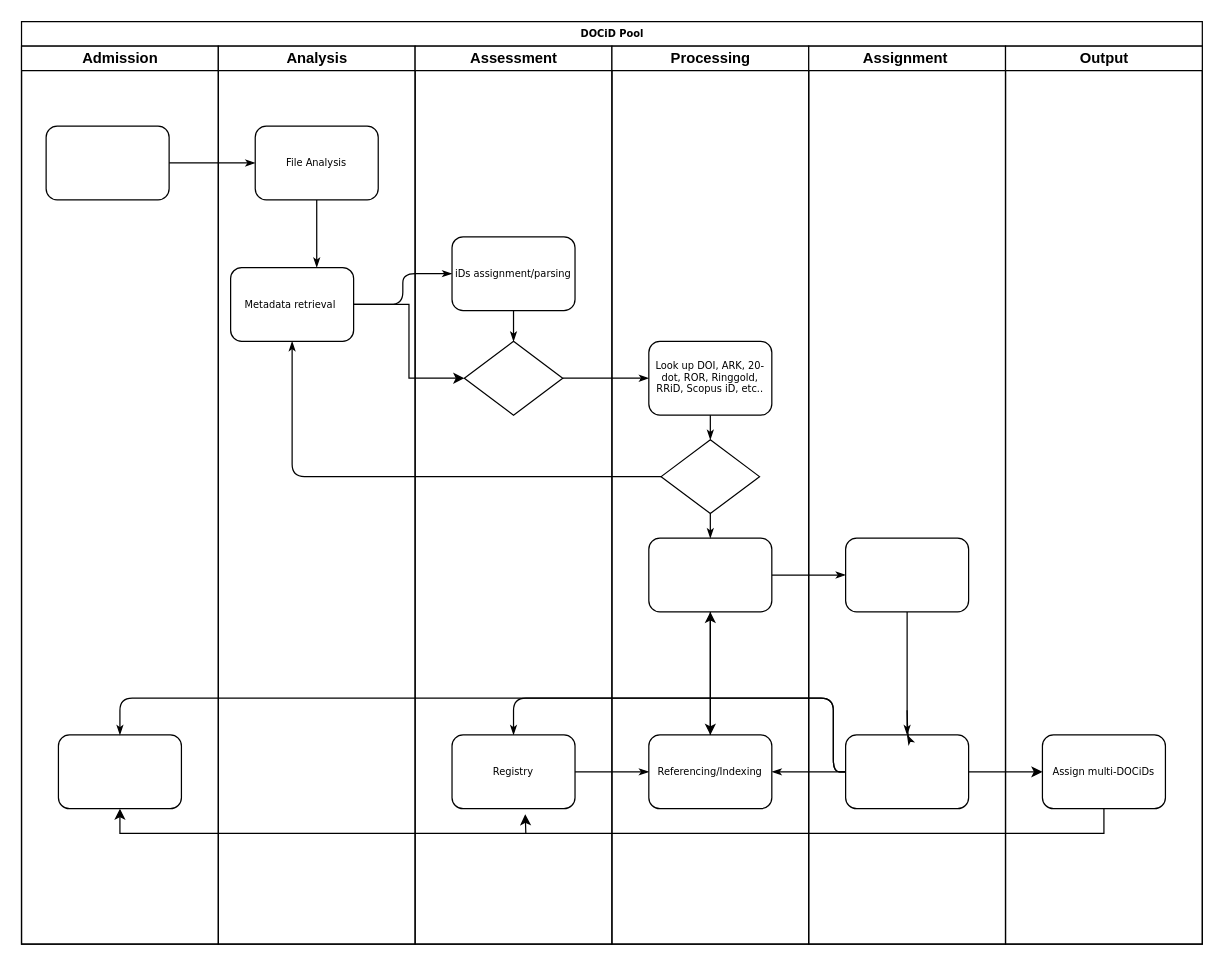
Image size: 1224x966. Some labels were removed from this diagram. Here are the shapes that lost their labels. From the top down, the centre of each, then its label:
At point (107, 162): "New work file".
At point (513, 377): "iDs Collection".
At point (710, 476): "iDs mapping".
At point (710, 574): "Query external APIs for iDs look up".
At point (906, 574): "Assign missing iDs".
At point (119, 771): "Repository / UI".
At point (906, 771): "Assign one DOCiD".
